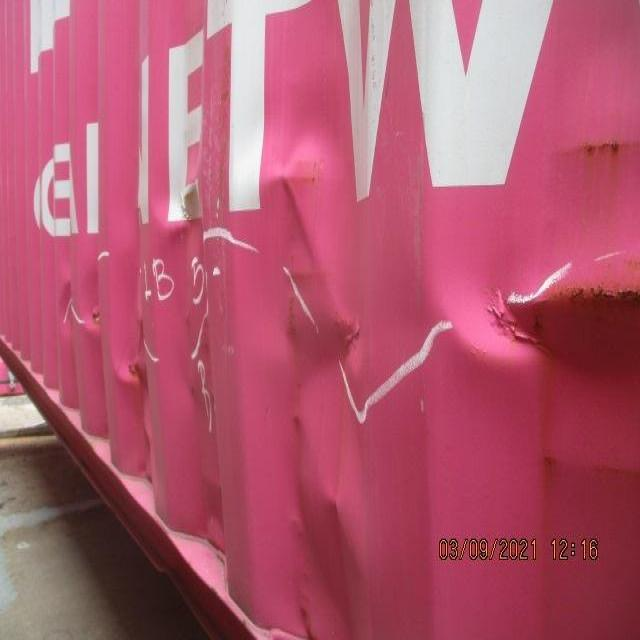Dent: (53, 131, 640, 447)
Minor-Dent: (249, 455, 395, 592)
